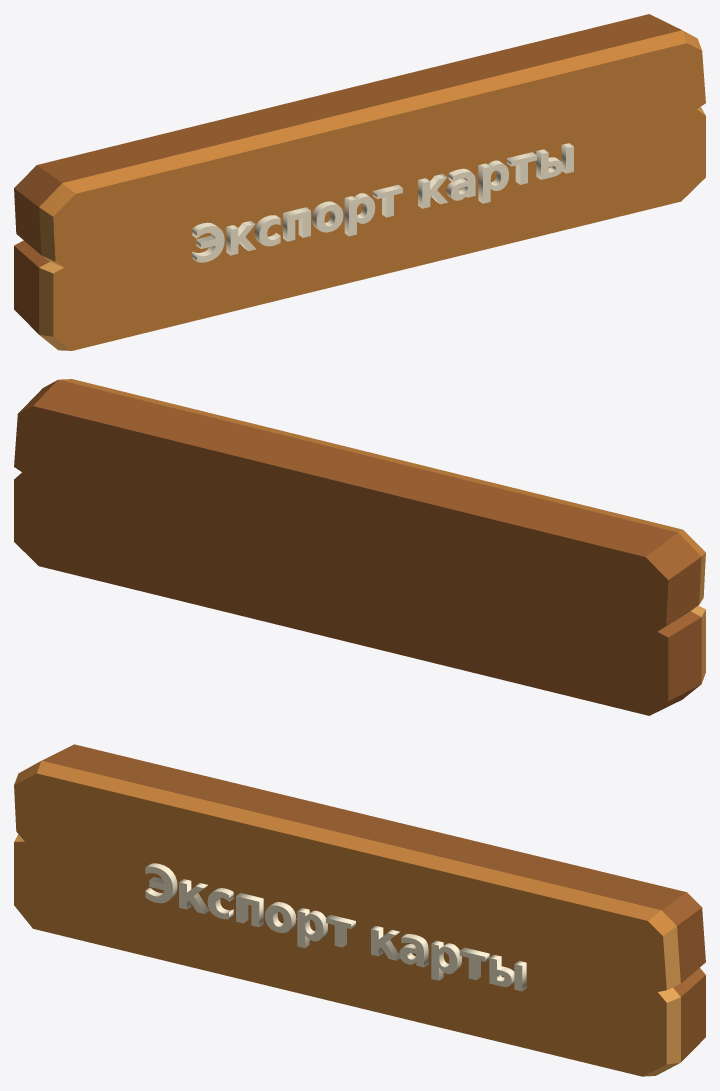
Rendered from ExportMap.fbx.
The picture shows the model from 3 angles, top to bottom: view 1: azimuth 30°, elevation 25°; view 2: azimuth 150°, elevation 25°; view 3: azimuth 330°, elevation 25°; orthographic projection.
Parts seen in each view (by area): view 1: Stone.012, Label.004; view 2: Stone.012; view 3: Stone.012, Label.004.
Boxes of the visible parts, box(x1,y1,x2,y2) form: Stone.012: box(14, 14, 705, 350); Label.004: box(192, 143, 573, 262); Stone.012: box(14, 379, 705, 715); Stone.012: box(14, 744, 705, 1076); Label.004: box(145, 863, 526, 991).
Bounding box in the file's own units: 0.289 × 0.07 × 0.0337.
